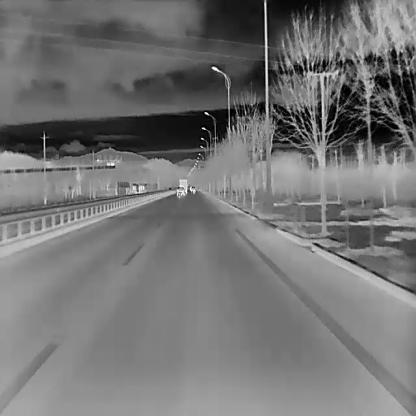car: (178, 178, 187, 195), (176, 185, 186, 197), (191, 185, 196, 193)
